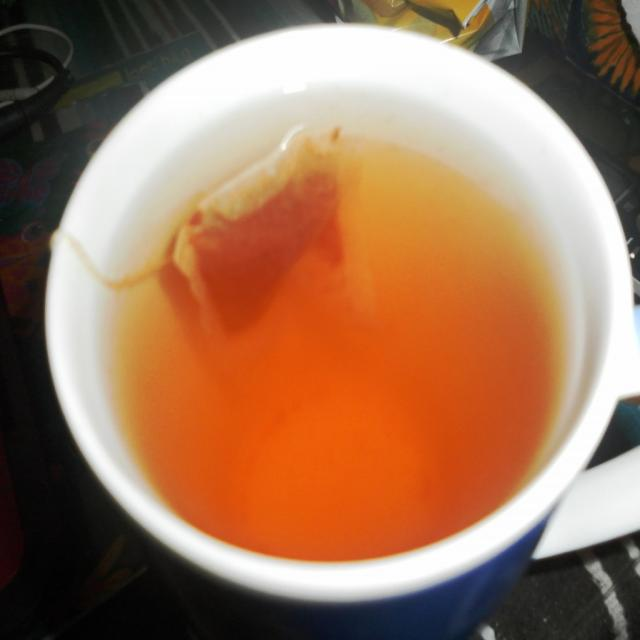Tea: (113, 122, 568, 559)
